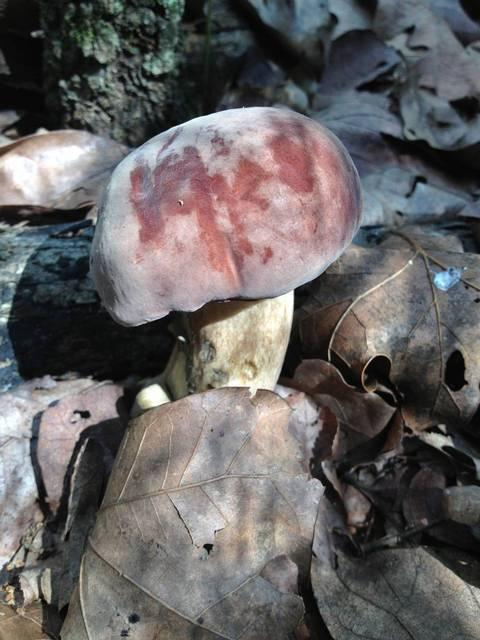poisonous_mushroom: (87, 103, 364, 399)
